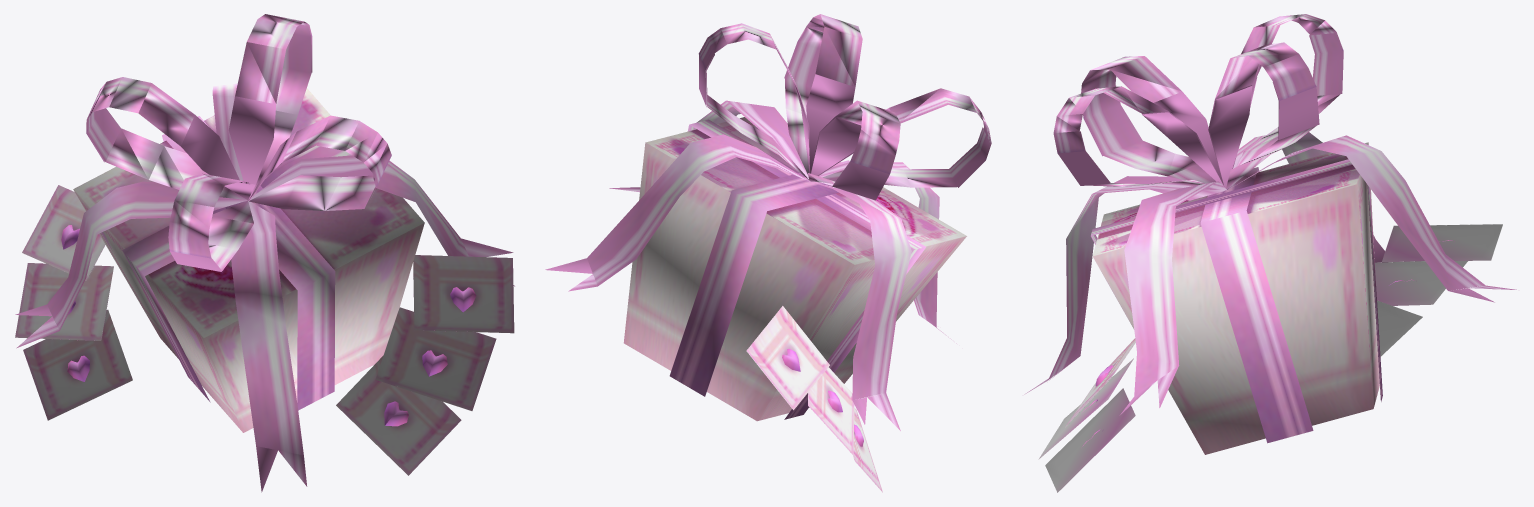
Rendered from hime.ico.obj.
3 views of the same model, side by side, from view 1: azimuth 30°, elevation 25°; view 2: azimuth 150°, elevation 25°; view 3: azimuth 270°, elevation 25° (orthographic). The views are drawn at different scales.
Bounding box in the file's own units: 4.7 × 4.43 × 4.72.
1 material, 1 textured.
